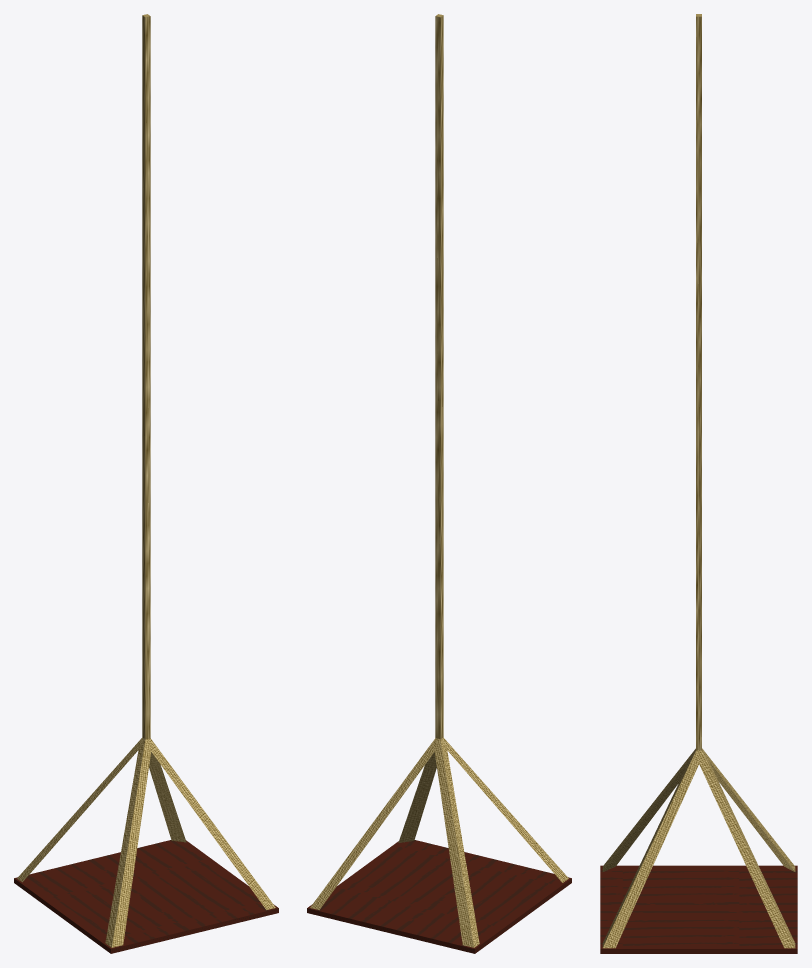
The model's file is Carrier.fbx.
3 renders of one model, left to right at view 1: azimuth 30°, elevation 25°; view 2: azimuth 150°, elevation 25°; view 3: azimuth 270°, elevation 25°, orthographic.
Parts seen in each view (by area): view 1: Cube.043, Cube.044, Cube.045; view 2: Cube.043, Cube.044, Cube.045; view 3: Cube.043, Cube.044, Cube.045.
Boxes of the visible parts, left/top/right/bottom form: Cube.043: left=14, top=840, right=278, bottom=953; Cube.044: left=17, top=737, right=275, bottom=947; Cube.045: left=142, top=14, right=150, bottom=739; Cube.043: left=307, top=840, right=571, bottom=953; Cube.044: left=310, top=737, right=568, bottom=947; Cube.045: left=435, top=14, right=443, bottom=739; Cube.043: left=600, top=865, right=797, bottom=953; Cube.044: left=602, top=748, right=795, bottom=948; Cube.045: left=696, top=14, right=701, bottom=750.
Bounding box in the file's own units: 3.8 × 19.06 × 3.8.
